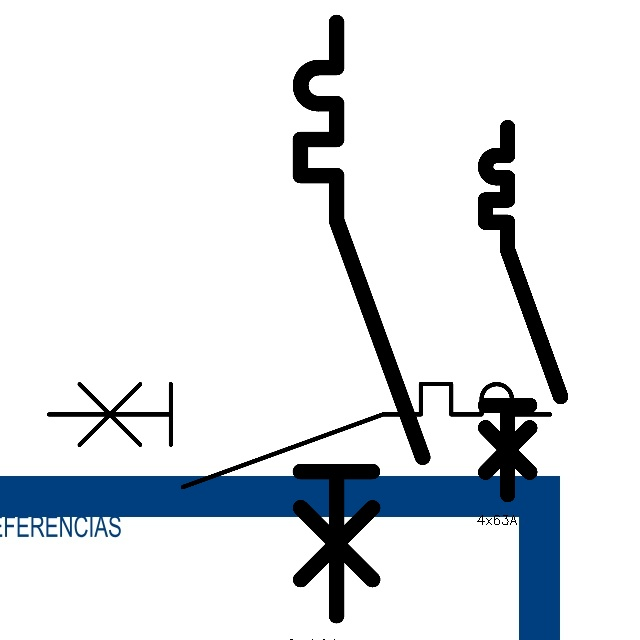interruptor_termomagnetico: (285, 7, 437, 631), (36, 371, 563, 500), (476, 118, 570, 504)
